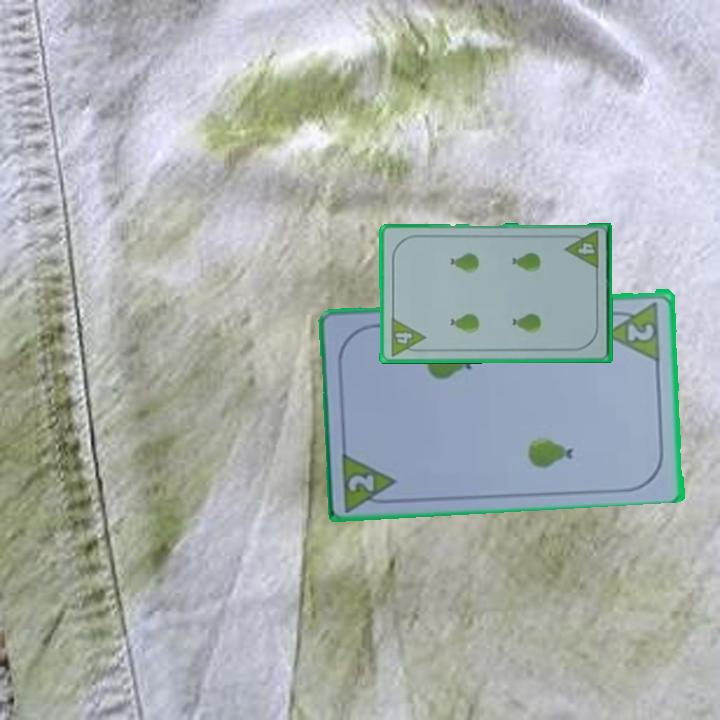2p: (602, 297, 664, 362), (344, 471, 378, 494)
4p: (387, 314, 428, 359), (562, 228, 602, 272)
